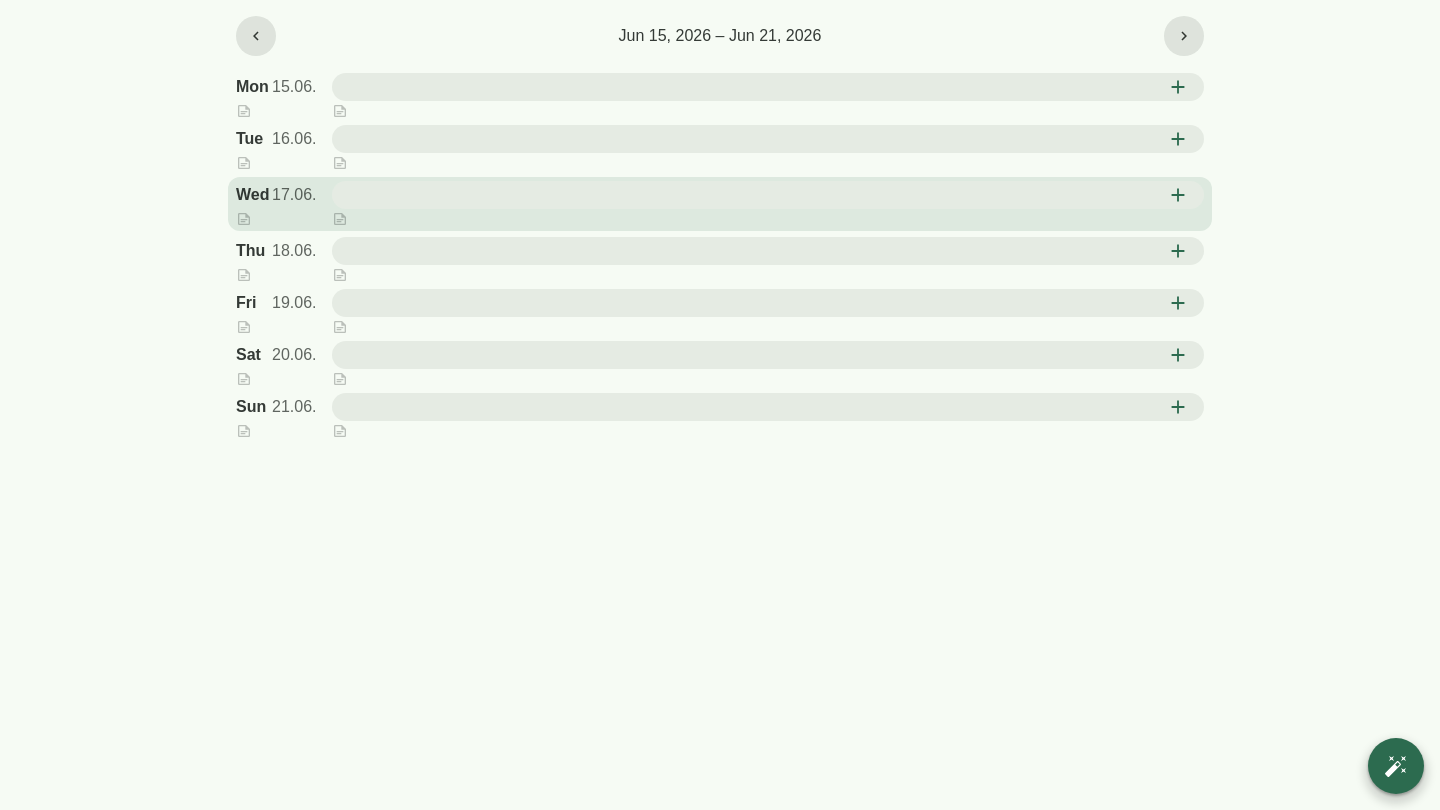
Test: MealPlanView suggestion mode › enters and exits suggestion mode via the FAB and the close button
Click the button with test id "suggest-meals-fab" at (1396, 766), box [1368, 738, 1424, 794]
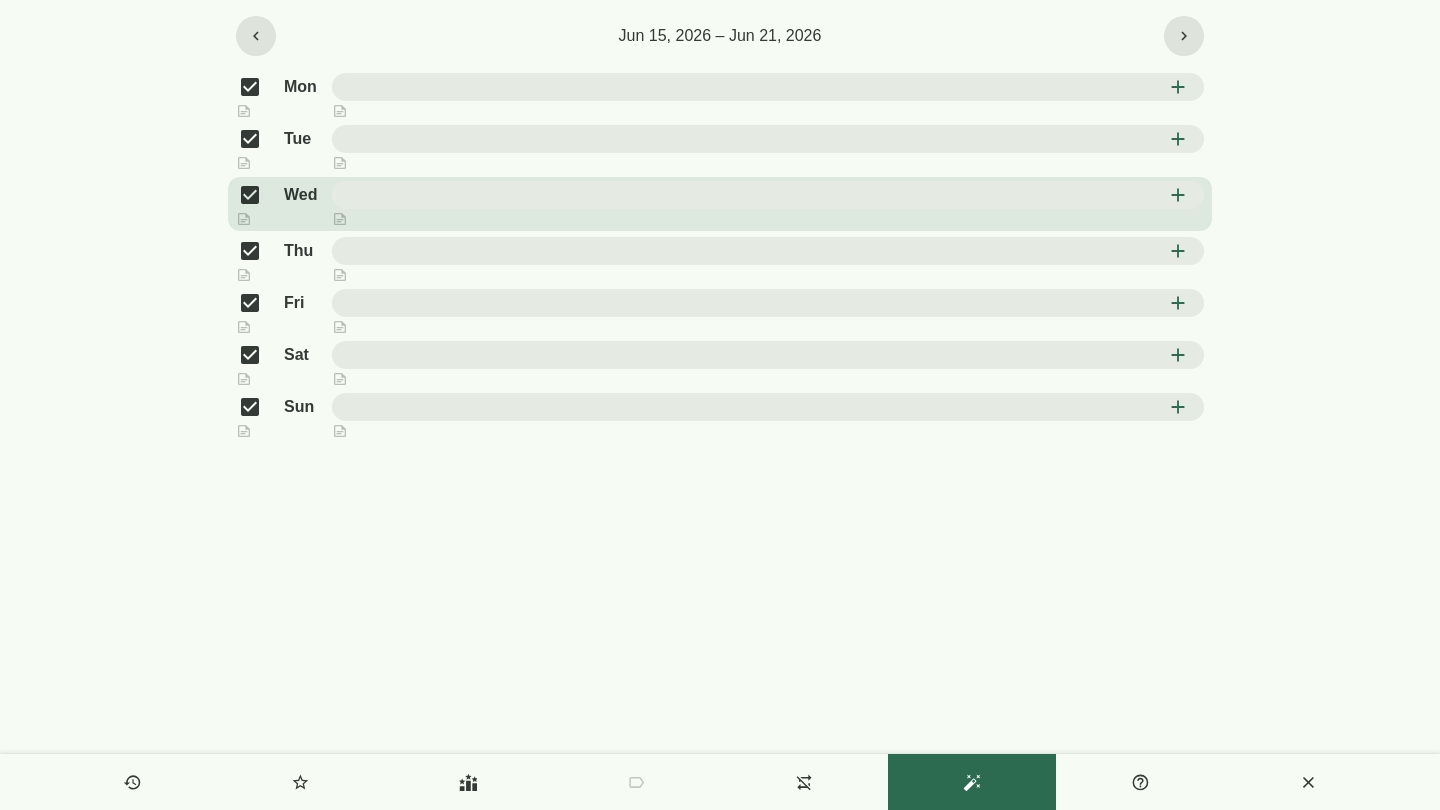
Expected: the header with test id "suggestion-toolbar" is shown, [0, 754, 1439, 809]
Expected: the number of buttons with test id "day-checkbox" is 7
Click the button with test id "exit-suggestion-mode" at (1308, 782), box [1224, 754, 1392, 809]
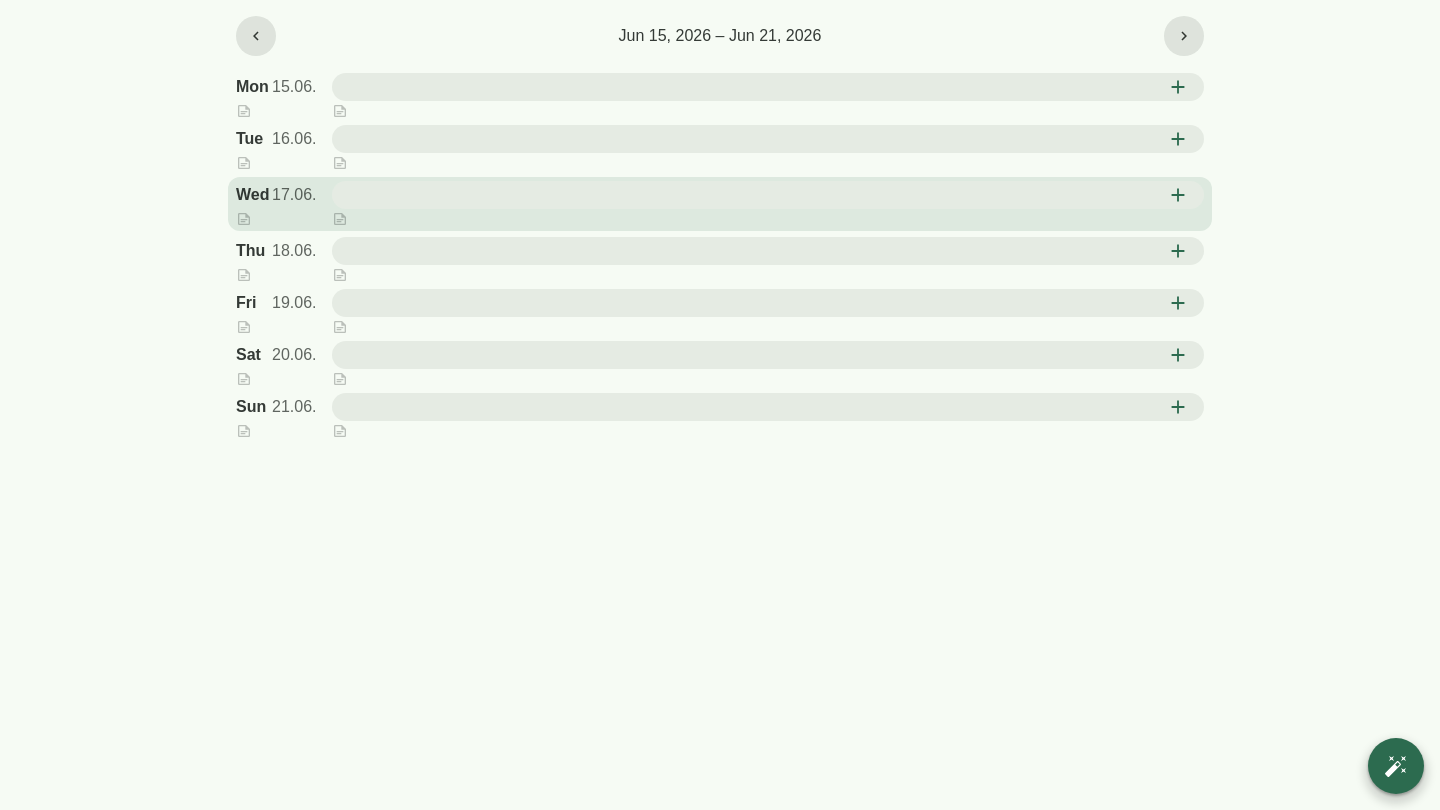
Expected: the button with test id "suggest-meals-fab" is shown, [1368, 738, 1424, 794]
Expected: no buttons with test id "day-checkbox" are shown
